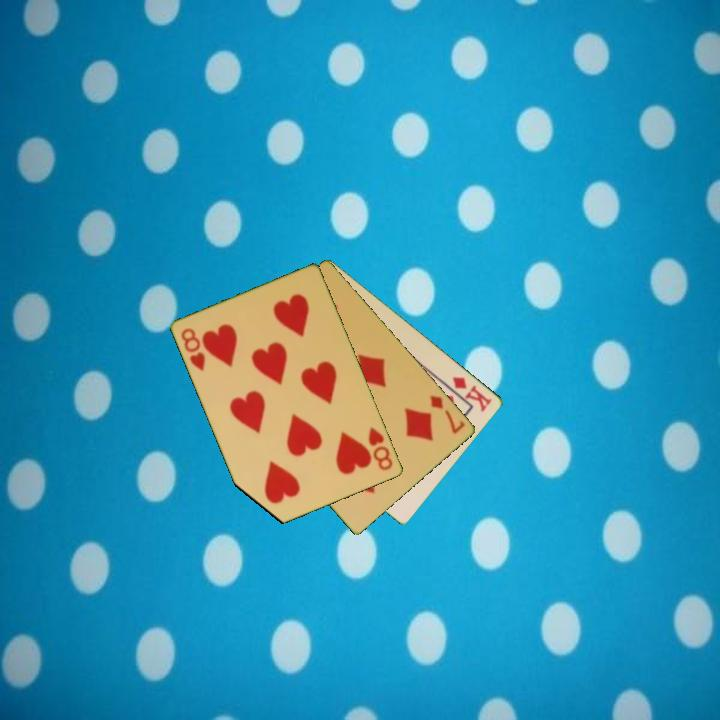7d: (427, 392, 468, 437)
8h: (178, 324, 209, 375), (365, 423, 396, 473)
Kd: (449, 373, 495, 415)
